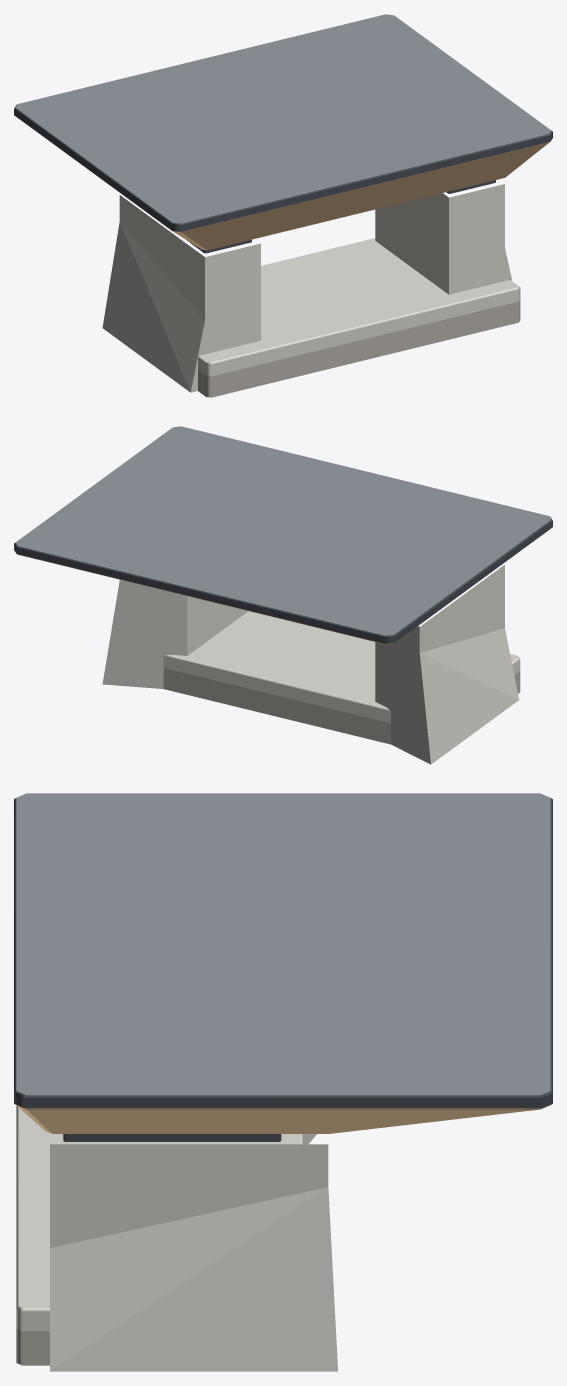
The model's file is ballantyne-bowl.glb.
The picture shows the model from 3 angles, top to bottom: view 1: azimuth 30°, elevation 25°; view 2: azimuth 150°, elevation 25°; view 3: azimuth 270°, elevation 25°; orthographic projection. The views are drawn at different scales.
Visible parts, largest first — view 1: The Amp Ballantyne; view 2: The Amp Ballantyne; view 3: The Amp Ballantyne.
Boxes of the visible parts, x1=… form: The Amp Ballantyne: x1=14, y1=14, x2=552, y2=397; The Amp Ballantyne: x1=14, y1=426, x2=552, y2=764; The Amp Ballantyne: x1=14, y1=793, x2=552, y2=1371.
Size of the model in its own units: 32 by 14.55 by 24.
